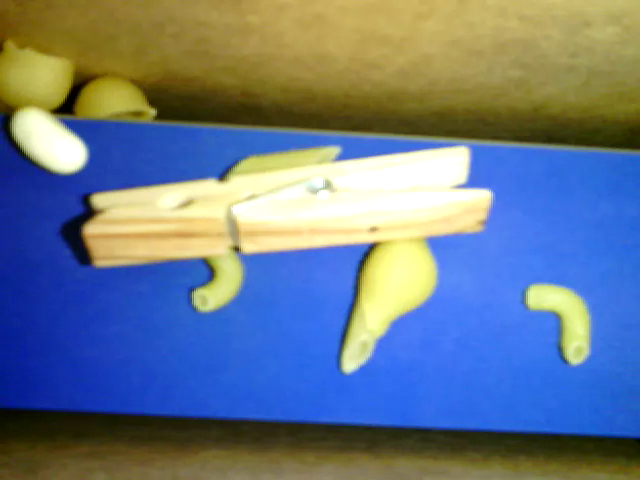elbow: (524, 283, 589, 362), (191, 227, 245, 311)
penne: (225, 145, 339, 177), (341, 281, 375, 372)
shell: (355, 221, 436, 342), (1, 41, 84, 121), (72, 76, 157, 122)
